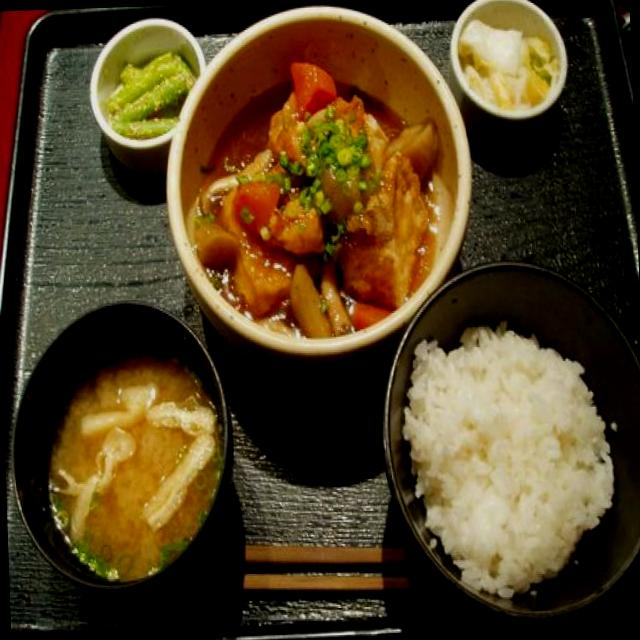Rice: (402, 316, 610, 594)
